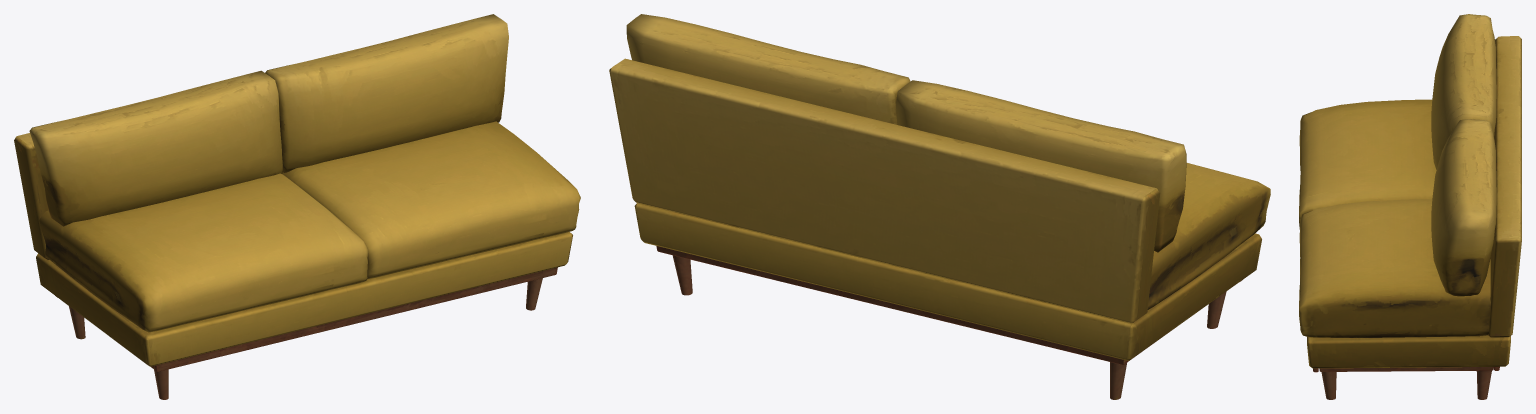
The model's file is SM_Sofa.fbx.
3 renders of one model, left to right at view 1: azimuth 30°, elevation 25°; view 2: azimuth 150°, elevation 25°; view 3: azimuth 270°, elevation 25°, orthographic. The views are drawn at different scales.
Visible parts, largest first — view 1: SM_Sofa_LOD0; view 2: SM_Sofa_LOD0; view 3: SM_Sofa_LOD0.
Boxes of the visible parts, left/top/right/bottom form: SM_Sofa_LOD0: left=14, top=14, right=580, bottom=399; SM_Sofa_LOD0: left=609, top=14, right=1270, bottom=399; SM_Sofa_LOD0: left=1299, top=14, right=1521, bottom=399.
Bounding box in the file's own units: 262 × 119 × 118.
1 material, 1 textured.
